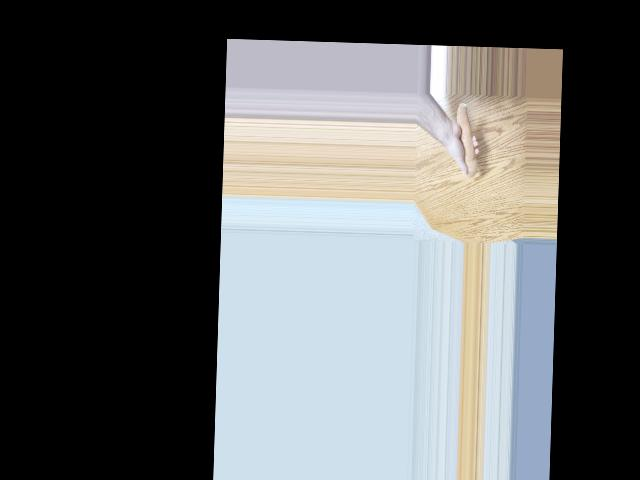sweet_potato: (451, 99, 480, 177)
